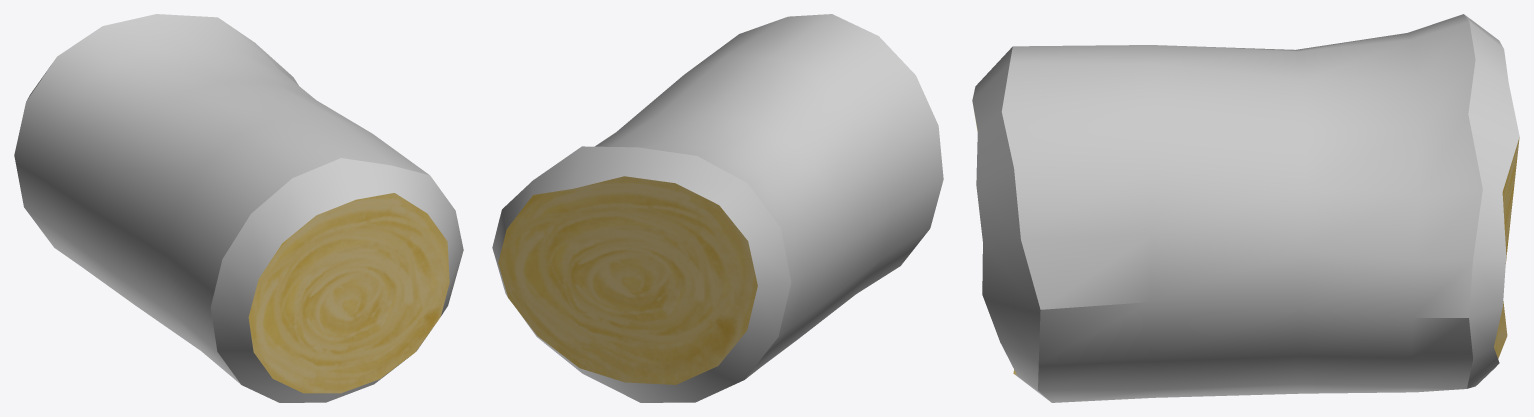
The model's file is m_hay_02.fbx.
The picture shows the model from 3 angles, left to right: view 1: azimuth 30°, elevation 25°; view 2: azimuth 150°, elevation 25°; view 3: azimuth 270°, elevation 25°; orthographic projection. The views are drawn at different scales.
Parts seen in each view (by area): view 1: m_hay_02; view 2: m_hay_02; view 3: m_hay_02.
Part boxes in pixels (<box>): m_hay_02: <box>14,14,463,402</box>; m_hay_02: <box>492,14,943,402</box>; m_hay_02: <box>972,14,1519,402</box>.
Bounding box in the file's own units: 82.78 × 71.64 × 108.
